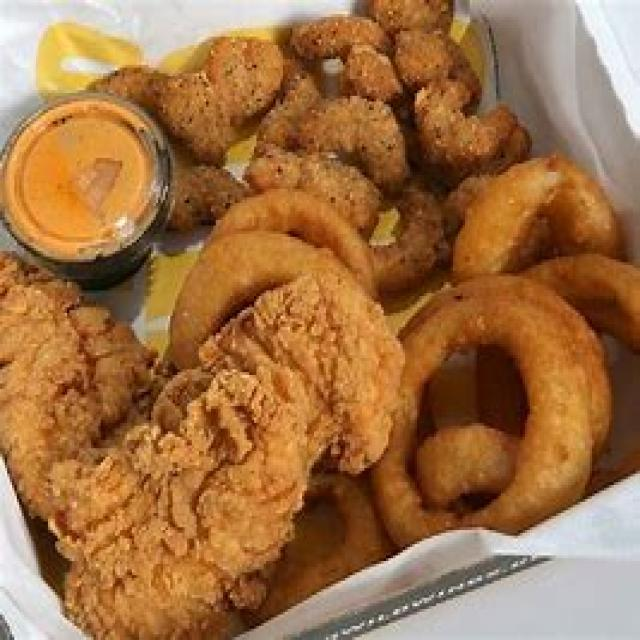Chicken Wings: (0, 234, 376, 638)
Onion Rings: (211, 194, 638, 538)
